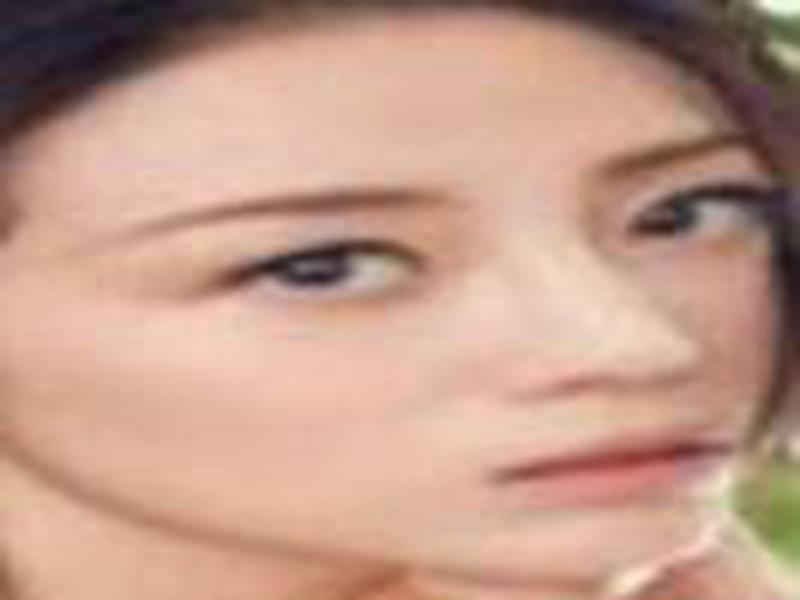without_mask: (4, 94, 784, 577)
